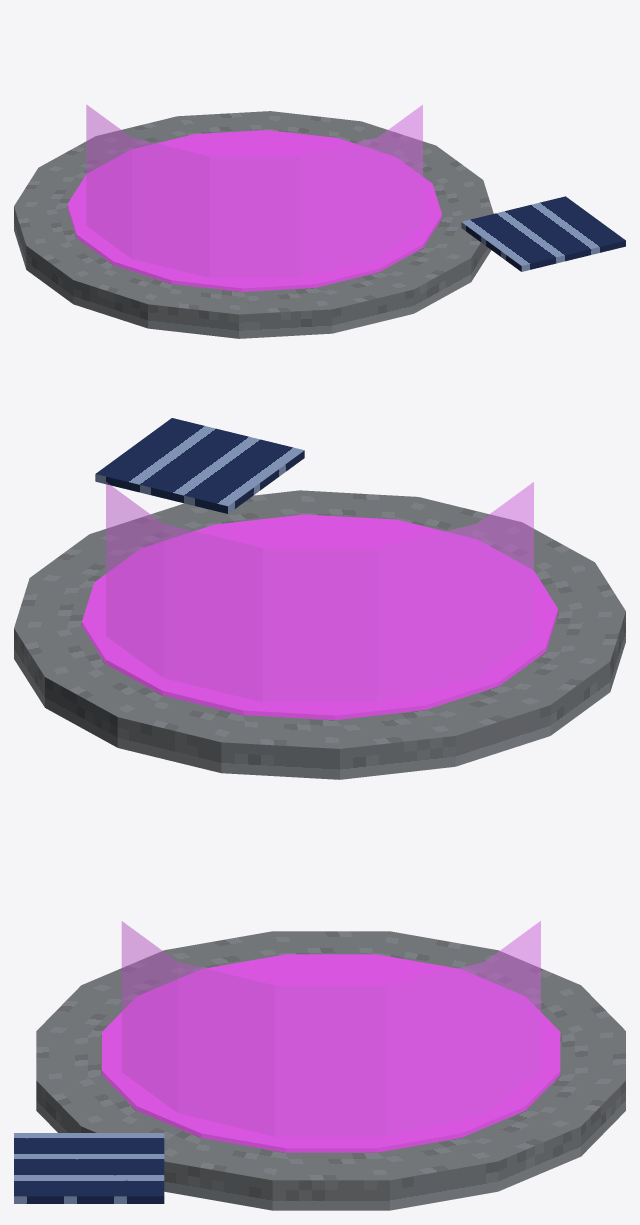
Rendered from tr_telepad.glb.
3 renders of one model, top to bottom at view 1: azimuth 30°, elevation 25°; view 2: azimuth 150°, elevation 25°; view 3: azimuth 270°, elevation 25°, orthographic. The views are drawn at different scales.
Parts seen in each view (by area): view 1: block_coil ring, block_glow, block_pad, block_solar cell; view 2: block_coil ring, block_glow, block_pad, block_solar cell; view 3: block_coil ring, block_glow, block_pad, block_solar cell.
Boxes of the visible parts, x1,y1,x2,y2 form: block_coil ring: (67, 130, 441, 291); block_glow: (86, 104, 422, 277); block_pad: (14, 111, 493, 338); block_solar cell: (461, 196, 625, 271); block_coil ring: (82, 514, 557, 720); block_glow: (106, 482, 533, 702); block_pad: (14, 490, 625, 779); block_solar cell: (95, 418, 304, 513); block_coil ring: (102, 954, 560, 1152); block_glow: (121, 921, 540, 1136); block_pad: (36, 931, 625, 1210); block_solar cell: (14, 1133, 164, 1203).
Bounding box in the file's own units: 0.7731 × 0.25 × 0.7331.
Materials: 4 (4 with a texture image).
